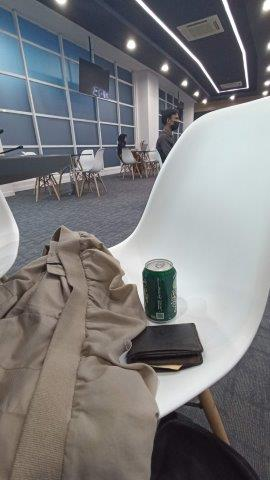kaleng: (142, 259, 177, 324)
